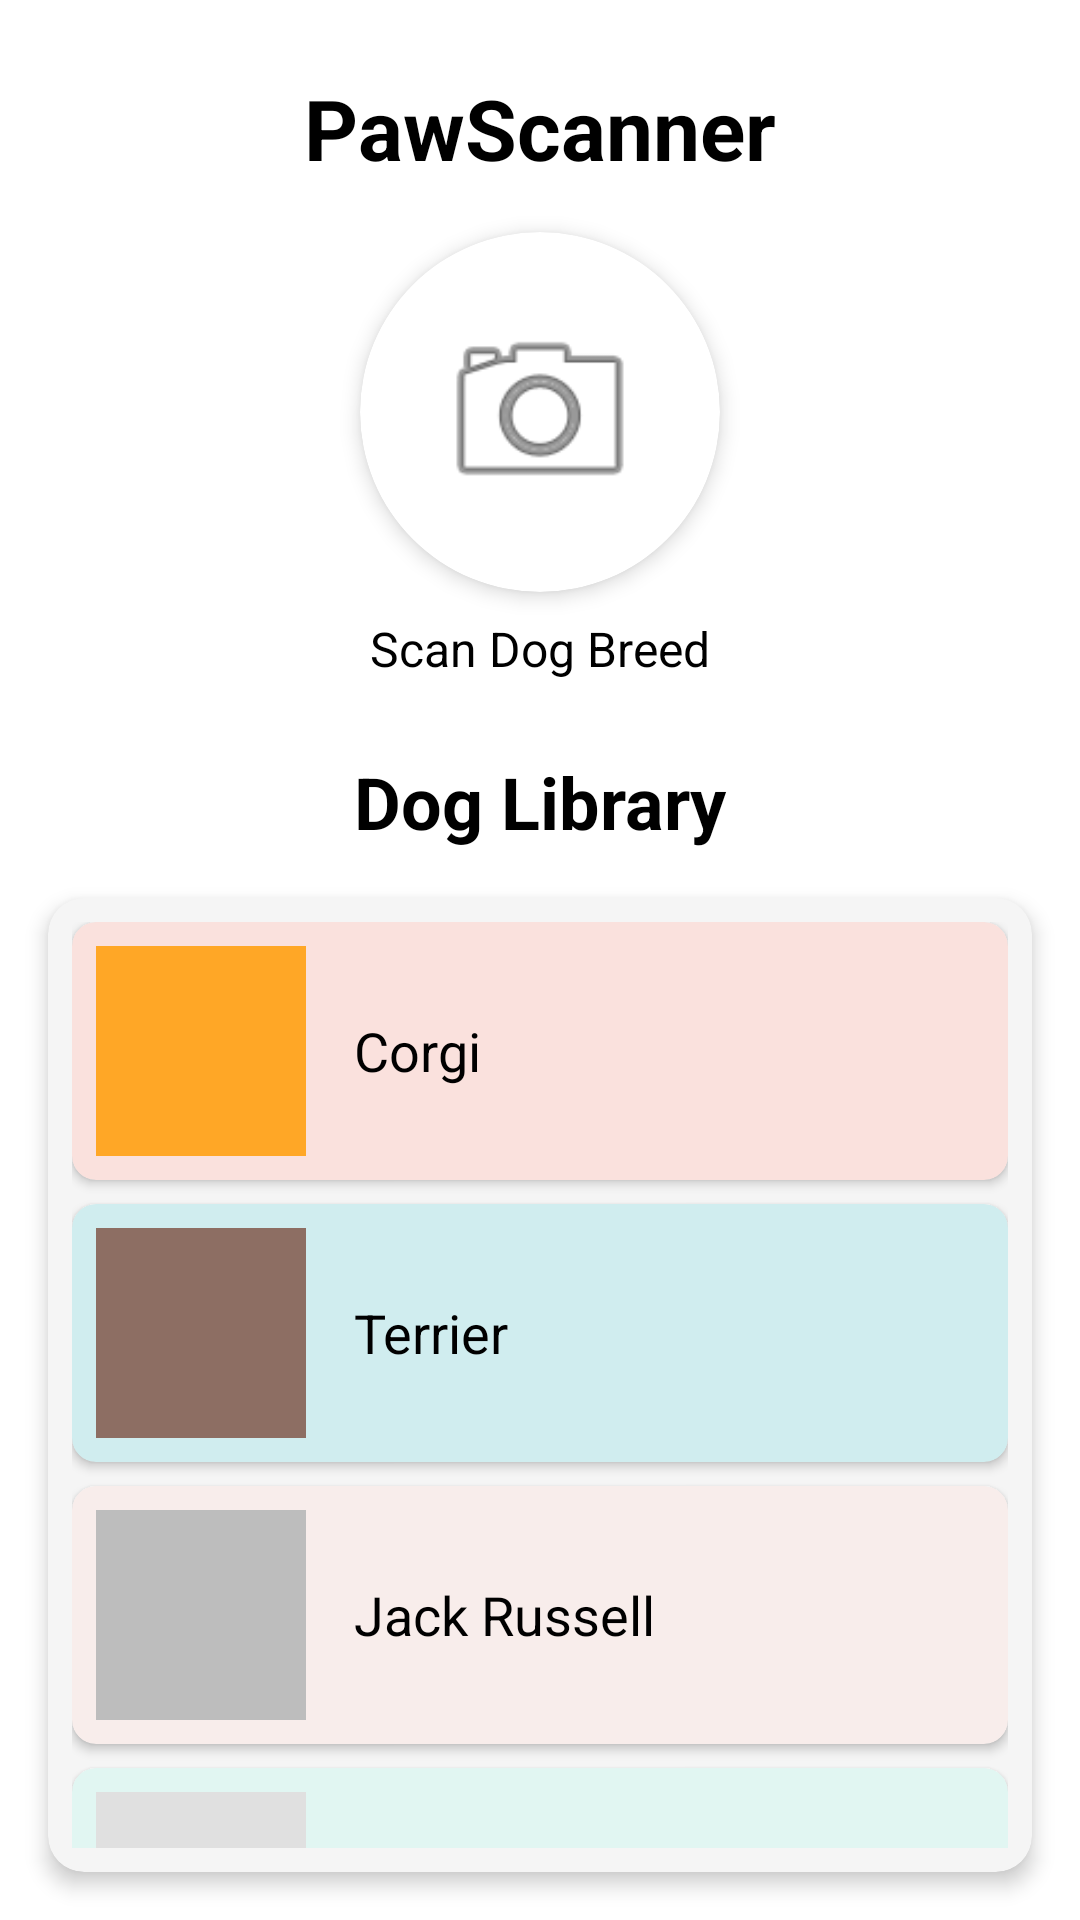

Screen size 1080px×1920px. Icon name, then its center in pixels as point (x, y):
Open Camera: point (540, 467)
